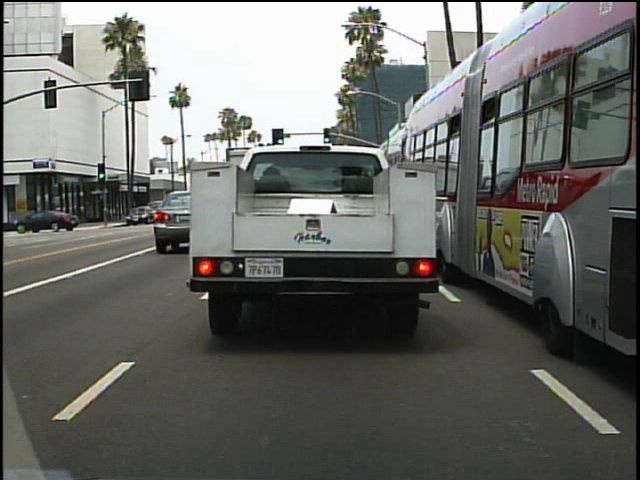person: (20, 207, 39, 242)
